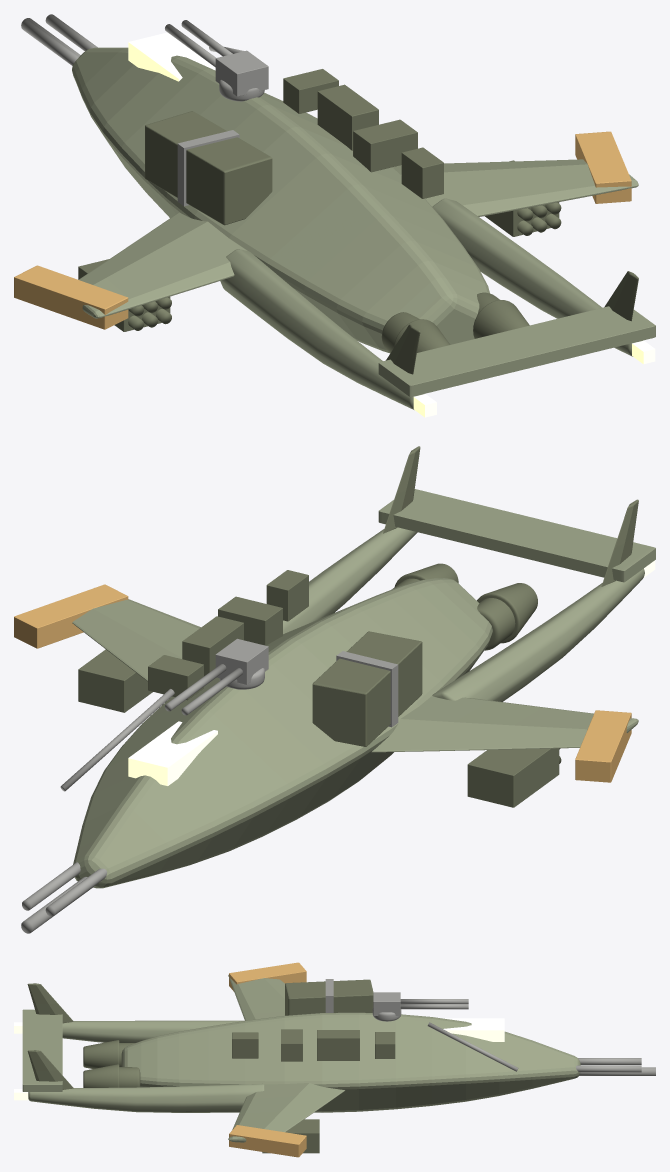
The model's file is astryn-vel.glb.
3 views of the same model, one above another, from view 1: azimuth 30°, elevation 25°; view 2: azimuth 150°, elevation 25°; view 3: azimuth 270°, elevation 25° (orthographic). The views are drawn at different scales.
Parts seen in each view (by area): view 1: hull, Cube.006, Cube.009, wing, boom, wing.001, boom.001, Cube.002, Cube.003, Cube.012, Cube.013, Cube.005 (+12 smaller); view 2: hull, Cube.006, wing, Cube.009, boom, wing.001, boom.001, Cube, Cube.003, Cube.001, Cube.002, Cube.005 (+13 smaller); view 3: hull, boom.001, wing.001, Cube.009, boom, Cube.006, wing, Cube.003, Cube.012, Cube.002, Cube.005, Cone (+16 smaller).
Boxes of the visible parts, x1,y1,x2,y2 form: hull: (72, 47, 489, 353); Cube.006: (378, 306, 655, 396); Cube.009: (145, 111, 272, 225); wing: (78, 212, 247, 318); boom: (220, 249, 423, 409); wing.001: (392, 159, 638, 216); boom.001: (432, 198, 642, 356); Cube.002: (14, 265, 128, 329); Cube.003: (575, 131, 631, 203); Cube.012: (317, 84, 378, 150); Cube.013: (353, 119, 417, 172); Cube.005: (128, 32, 215, 81); hull: (73, 578, 492, 888); Cube.006: (378, 489, 655, 582); wing: (371, 696, 638, 752); Cube.009: (312, 631, 422, 746); boom: (432, 568, 644, 701); wing.001: (72, 599, 200, 681); boom.001: (283, 527, 417, 633); Cube: (467, 748, 559, 807); Cube.003: (14, 584, 128, 648); Cube.001: (78, 649, 152, 712); Cube.002: (575, 710, 631, 782); Cube.005: (128, 721, 217, 785); hull: (121, 1012, 580, 1112); boom.001: (28, 1083, 264, 1112); wing.001: (228, 1083, 345, 1142); Cube.009: (285, 979, 373, 1015); boom: (62, 1020, 244, 1042); Cube.006: (22, 1009, 62, 1091); wing: (228, 975, 284, 1020); Cube.003: (229, 1125, 306, 1157); Cube.012: (317, 1030, 359, 1060); Cube.002: (229, 962, 306, 991); Cube.005: (443, 1018, 504, 1041); Cone: (83, 1040, 119, 1068).
Bounding box in the file's own units: 3.01 × 0.755 × 4.48.
